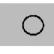no answer: (21, 13, 46, 39)
